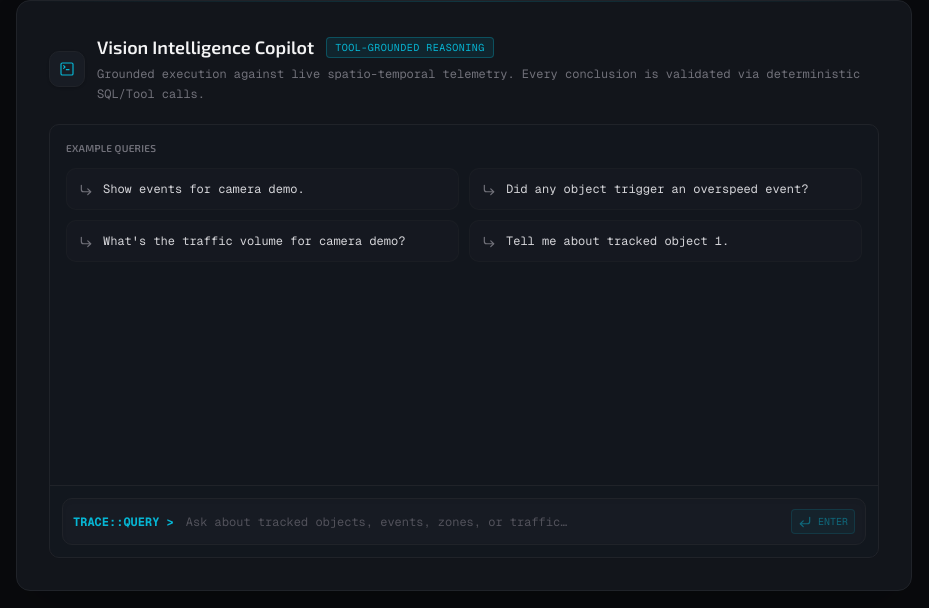
Test: VisionAgentView › shows the real error (e.g. a 503 for no LLM key configured) honestly, not a fabricated fallback answer
The width and height of the screenshot is (929, 608).
Click the button "Show events for camera demo." at (262, 189), box [66,168,459,210]
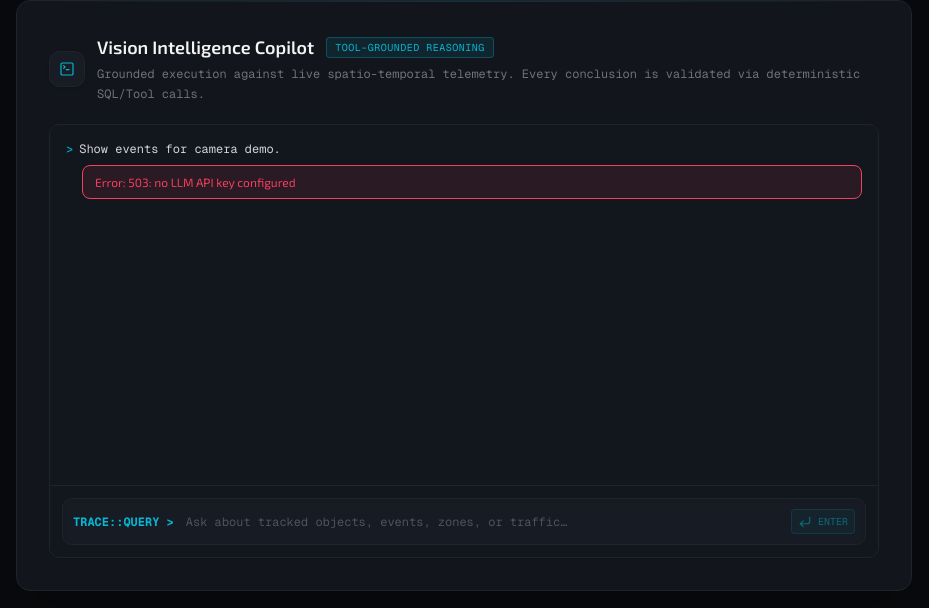
Result: the message shows "503: no LLM API key configured" at [95,175,296,189]
